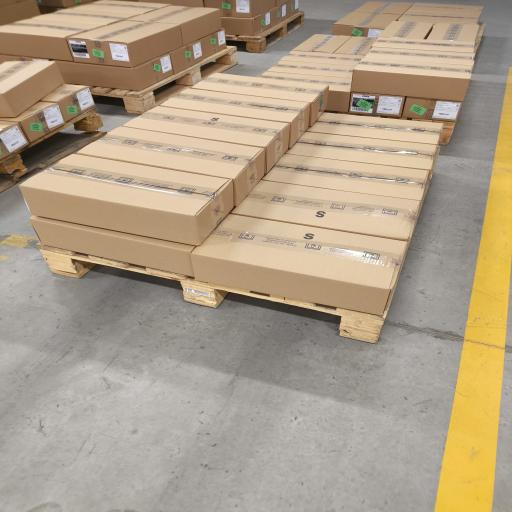pallet: (38, 244, 387, 343), (91, 47, 237, 113), (0, 108, 105, 192), (327, 111, 455, 145), (226, 12, 304, 52), (475, 23, 486, 52)
